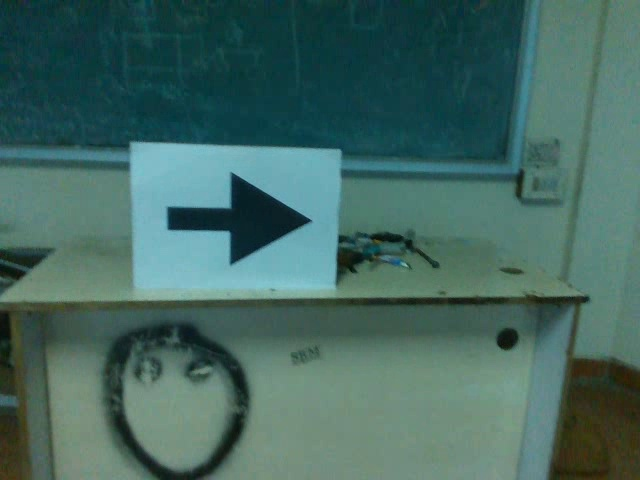Right: (158, 165, 318, 267)
